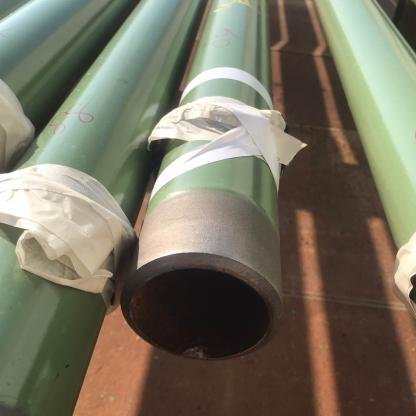Bevel: (175, 345, 219, 360), (128, 296, 144, 321)
